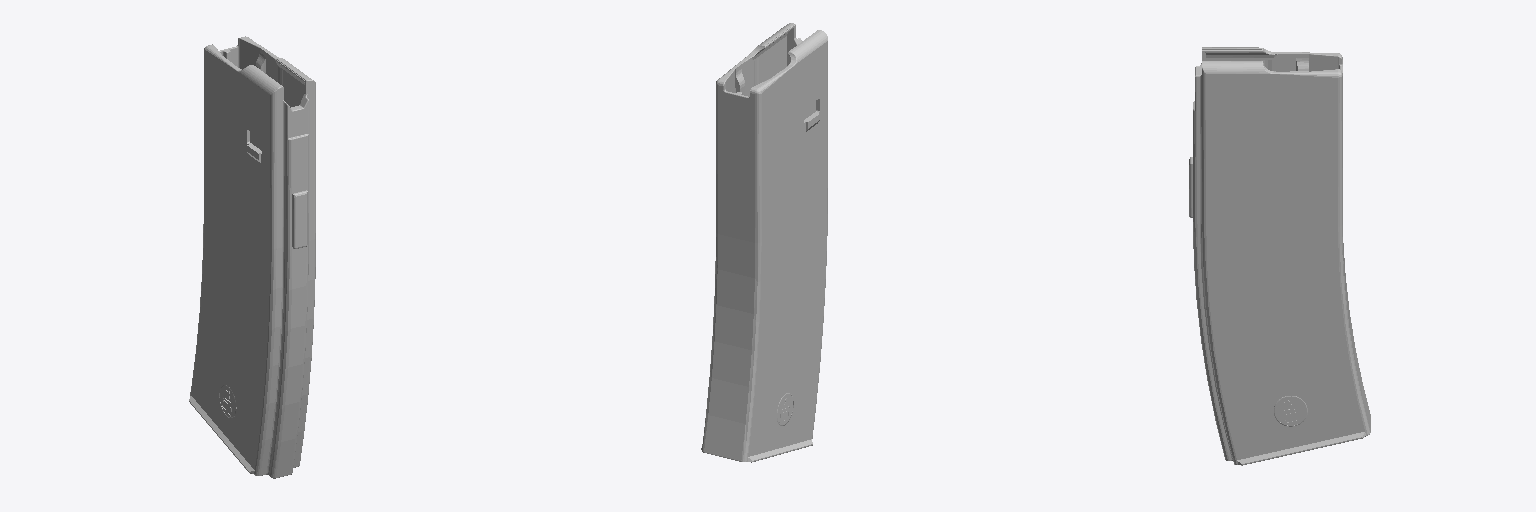
File: Ivan's Standard Mag Body Without Brim.obj
3 views of the same model, side by side, from view 1: azimuth 30°, elevation 25°; view 2: azimuth 150°, elevation 25°; view 3: azimuth 270°, elevation 25° (orthographic).
Parts seen in each view (by area): view 1: Solid2; view 2: Solid2; view 3: Solid2.
Part boxes in pixels (left/top/right/bottom): Solid2: left=189, top=36, right=315, bottom=478; Solid2: left=701, top=23, right=827, bottom=462; Solid2: left=1189, top=47, right=1370, bottom=465.
Size of the model in its own units: 25.65 by 191 by 78.08.